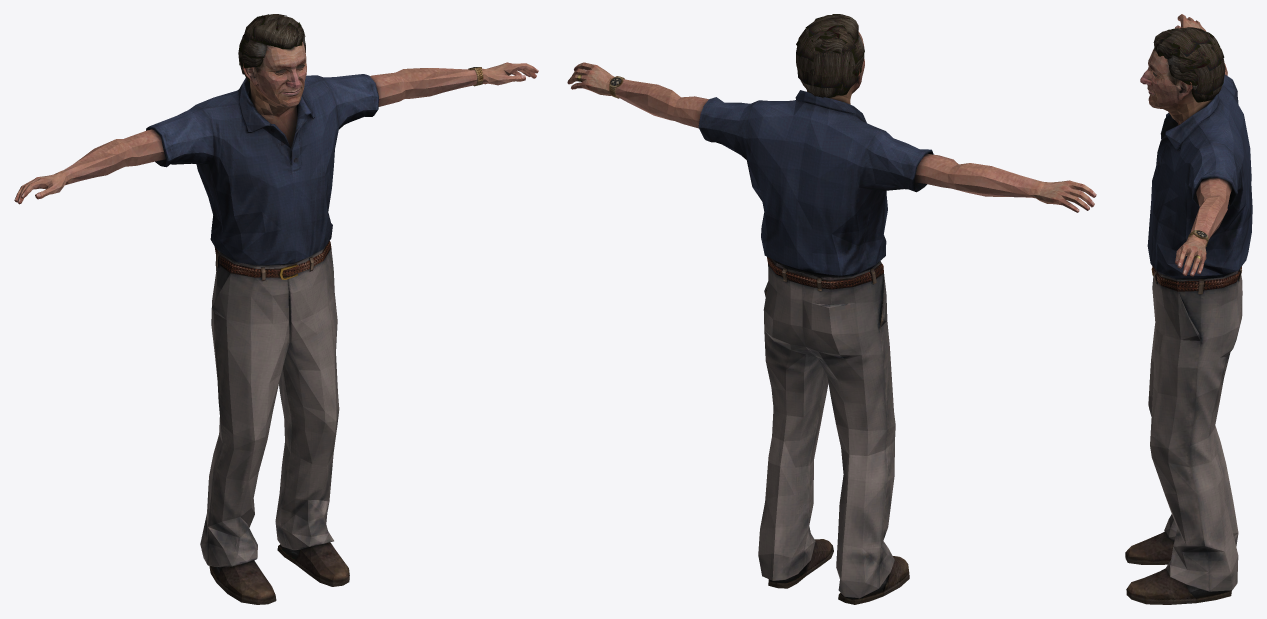
Rendered from SH SM Mike Stewart.obj.
The picture shows the model from 3 angles, left to right: view 1: azimuth 30°, elevation 25°; view 2: azimuth 150°, elevation 25°; view 3: azimuth 270°, elevation 25°; orthographic projection. The views are drawn at different scales.
Parts seen in each view (by area): view 1: 0001_SH_SM_Mike_Stewa, rdmobj00_Tex_0320_0.d, 0002_SH_SM_Mike_Stewa; view 2: 0001_SH_SM_Mike_Stewa, rdmobj00_Tex_0320_0.d, 0002_SH_SM_Mike_Stewa; view 3: 0001_SH_SM_Mike_Stewa, rdmobj00_Tex_0320_0.d, 0002_SH_SM_Mike_Stewa.
Part boxes in pixels (x1=…): 0001_SH_SM_Mike_Stewa: x1=146, y1=67, x2=483, y2=604; rdmobj00_Tex_0320_0.d: x1=14, y1=18, x2=538, y2=204; 0002_SH_SM_Mike_Stewa: x1=238, y1=14, x2=305, y2=82; 0001_SH_SM_Mike_Stewa: x1=609, y1=76, x2=933, y2=604; rdmobj00_Tex_0320_0.d: x1=567, y1=18, x2=1096, y2=212; 0002_SH_SM_Mike_Stewa: x1=796, y1=14, x2=864, y2=97; 0001_SH_SM_Mike_Stewa: x1=1125, y1=74, x2=1252, y2=604; rdmobj00_Tex_0320_0.d: x1=1140, y1=14, x2=1232, y2=276; 0002_SH_SM_Mike_Stewa: x1=1153, y1=27, x2=1225, y2=102.
Size of the model in its own units: 1.81 by 1.85 by 0.3895.
4 materials, 4 textured.
